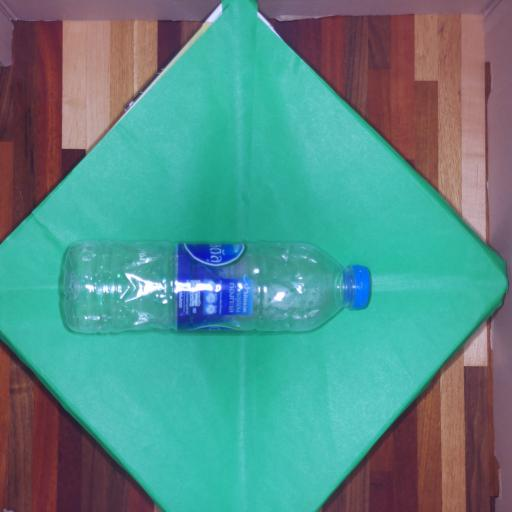bottle: (39, 221, 389, 354)
